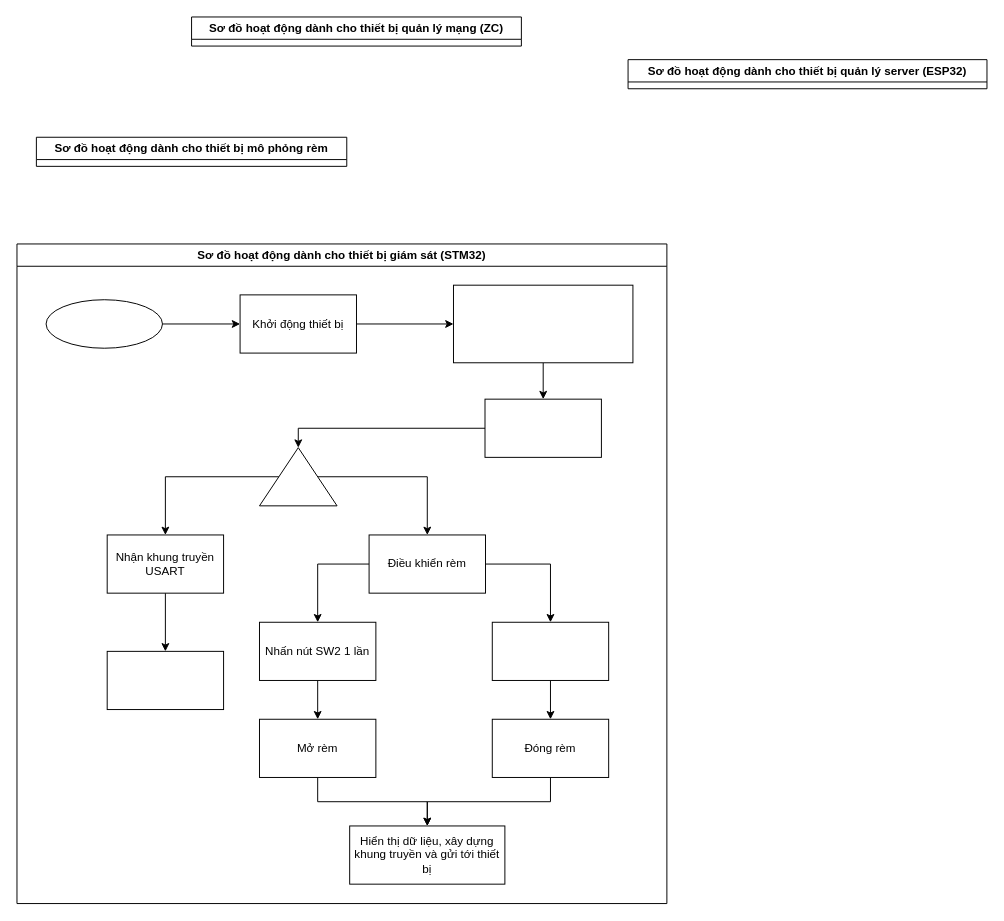
This 1004x921 diagram has some shape labels left out. Here are the shapes that lost their labels. From the top down, the box of each, then its label:
(45, 299, 162, 348): BEGIN
(453, 284, 633, 363): Gửi khung truyền đồng bộ trạng thái với thiết bị rèm
(484, 398, 601, 457): Hiển thị thông tin và dữ liệu của rèm
(491, 621, 609, 680): Nhấn nút SW4 1 lần
(106, 650, 224, 710): Xử lý và hiển thị
